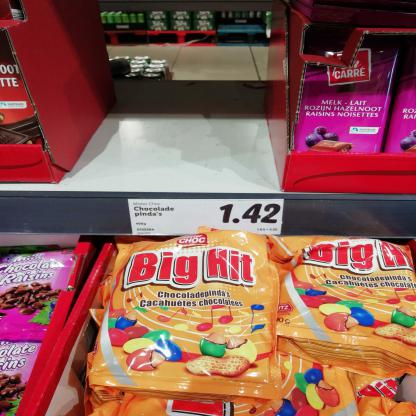prtg: (129, 200, 284, 236)
